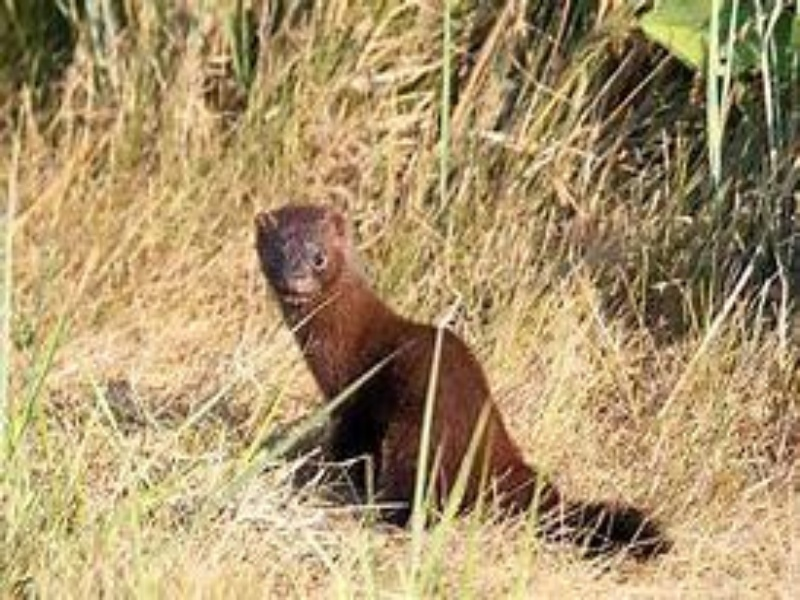minkish: (249, 206, 678, 564)
